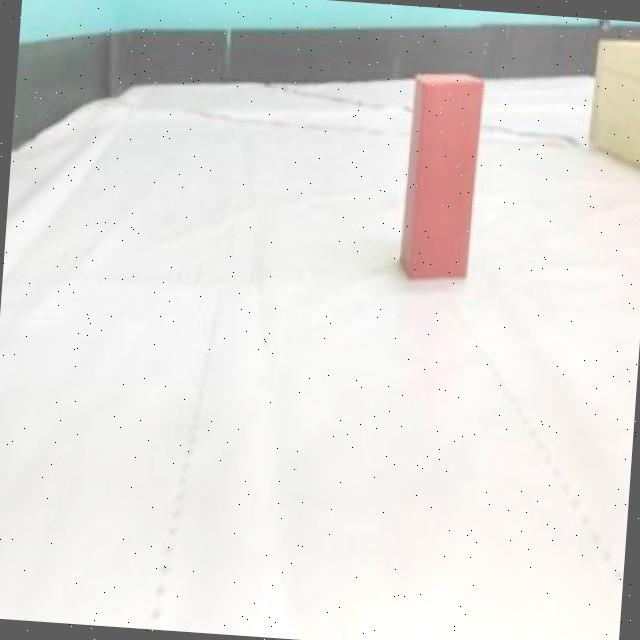redbox: (393, 67, 488, 284)
